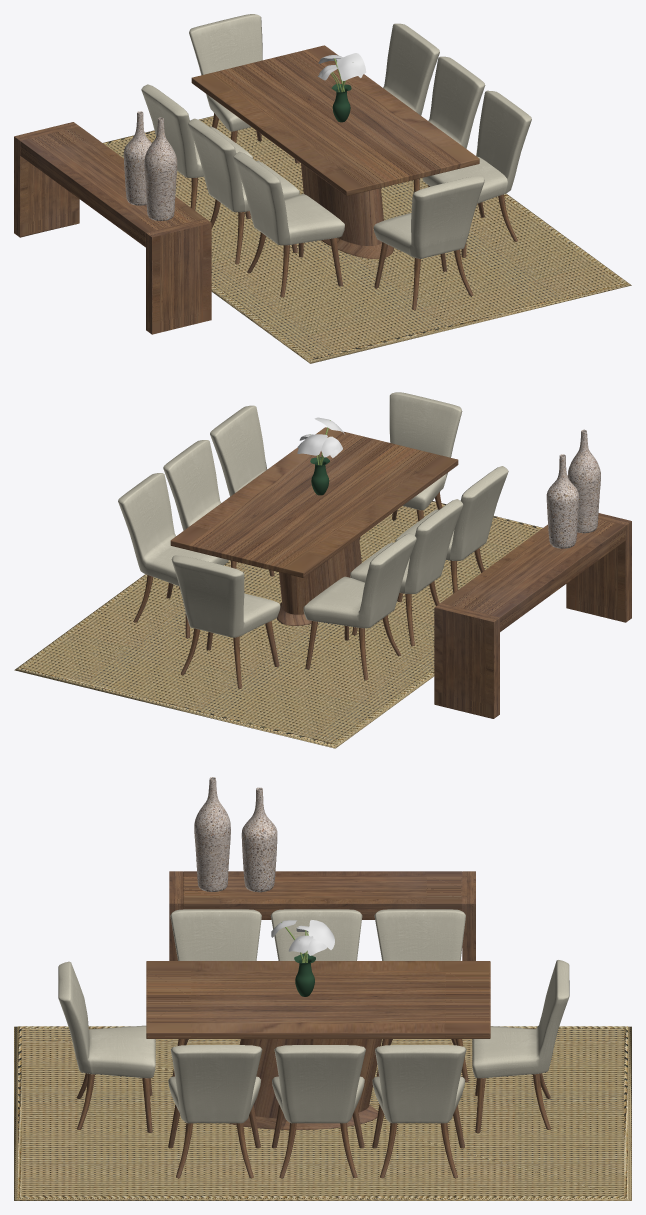
Rendered from Dining Table and Char set .glb.
3 views of the same model, one above another, from view 1: azimuth 30°, elevation 25°; view 2: azimuth 150°, elevation 25°; view 3: azimuth 270°, elevation 25° (orthographic). The views are drawn at different scales.
Parts seen in each view (by area): view 1: Plane.001, mesajantar, Desc, cadeirajantar, cadeirajantar.006, cadeirajantar.001, cadeirajantar.007, cadeirajantar.005, cadeirajantar.002, cadeirajantar.003, cadeirajantar.004, JarroMaior (+3 smaller); view 2: Plane.001, mesajantar, Desc, cadeirajantar.007, cadeirajantar.004, cadeirajantar.003, cadeirajantar, cadeirajantar.005, cadeirajantar.006, cadeirajantar.002, cadeirajantar.001, JarroMenos (+3 smaller); view 3: Plane.001, mesajantar, Desc, cadeirajantar.001, cadeirajantar.002, cadeirajantar.003, cadeirajantar, cadeirajantar.007, cadeirajantar.004, cadeirajantar.006, cadeirajantar.005, JarroMaior (+3 smaller).
Boxes of the visible parts, left/top/right/bottom form: Plane.001: left=103, top=116, right=631, bottom=363; mesajantar: left=191, top=45, right=479, bottom=258; Desc: left=14, top=122, right=211, bottom=334; cadeirajantar: left=373, top=175, right=484, bottom=309; cadeirajantar.006: left=233, top=151, right=344, bottom=297; cadeirajantar.001: left=422, top=90, right=531, bottom=257; cadeirajantar.007: left=189, top=14, right=299, bottom=163; cadeirajantar.005: left=188, top=118, right=299, bottom=264; cadeirajantar.002: left=381, top=56, right=485, bottom=191; cadeirajantar.003: left=383, top=23, right=439, bottom=115; cadeirajantar.004: left=141, top=84, right=252, bottom=218; JarroMaior: left=144, top=117, right=177, bottom=220; Plane.001: left=14, top=501, right=542, bottom=748; mesajantar: left=170, top=427, right=458, bottom=625; Desc: left=434, top=513, right=631, bottom=718; cadeirajantar.007: left=171, top=555, right=280, bottom=688; cadeirajantar.004: left=303, top=533, right=416, bottom=680; cadeirajantar.003: left=118, top=473, right=228, bottom=638; cadeirajantar: left=359, top=392, right=462, bottom=540; cadeirajantar.005: left=350, top=499, right=463, bottom=645; cadeirajantar.006: left=395, top=466, right=508, bottom=601; cadeirajantar.002: left=163, top=440, right=274, bottom=589; cadeirajantar.001: left=210, top=405, right=267, bottom=496; JarroMenos: left=546, top=454, right=578, bottom=548; Plane.001: left=14, top=1026, right=631, bottom=1200; mesajantar: left=146, top=961, right=490, bottom=1129; Desc: left=169, top=871, right=475, bottom=960; cadeirajantar.001: left=168, top=1045, right=262, bottom=1178; cadeirajantar.002: left=272, top=1045, right=365, bottom=1178; cadeirajantar.003: left=372, top=1045, right=466, bottom=1178; cadeirajantar: left=58, top=961, right=155, bottom=1132; cadeirajantar.007: left=472, top=960, right=569, bottom=1133; cadeirajantar.004: left=374, top=909, right=468, bottom=1082; cadeirajantar.006: left=170, top=909, right=261, bottom=1076; cadeirajantar.005: left=270, top=909, right=362, bottom=960; JarroMaior: left=194, top=777, right=230, bottom=891.
Size of the model in its own units: 2.84 by 1.29 by 3.34.
10 materials, 8 textured.
